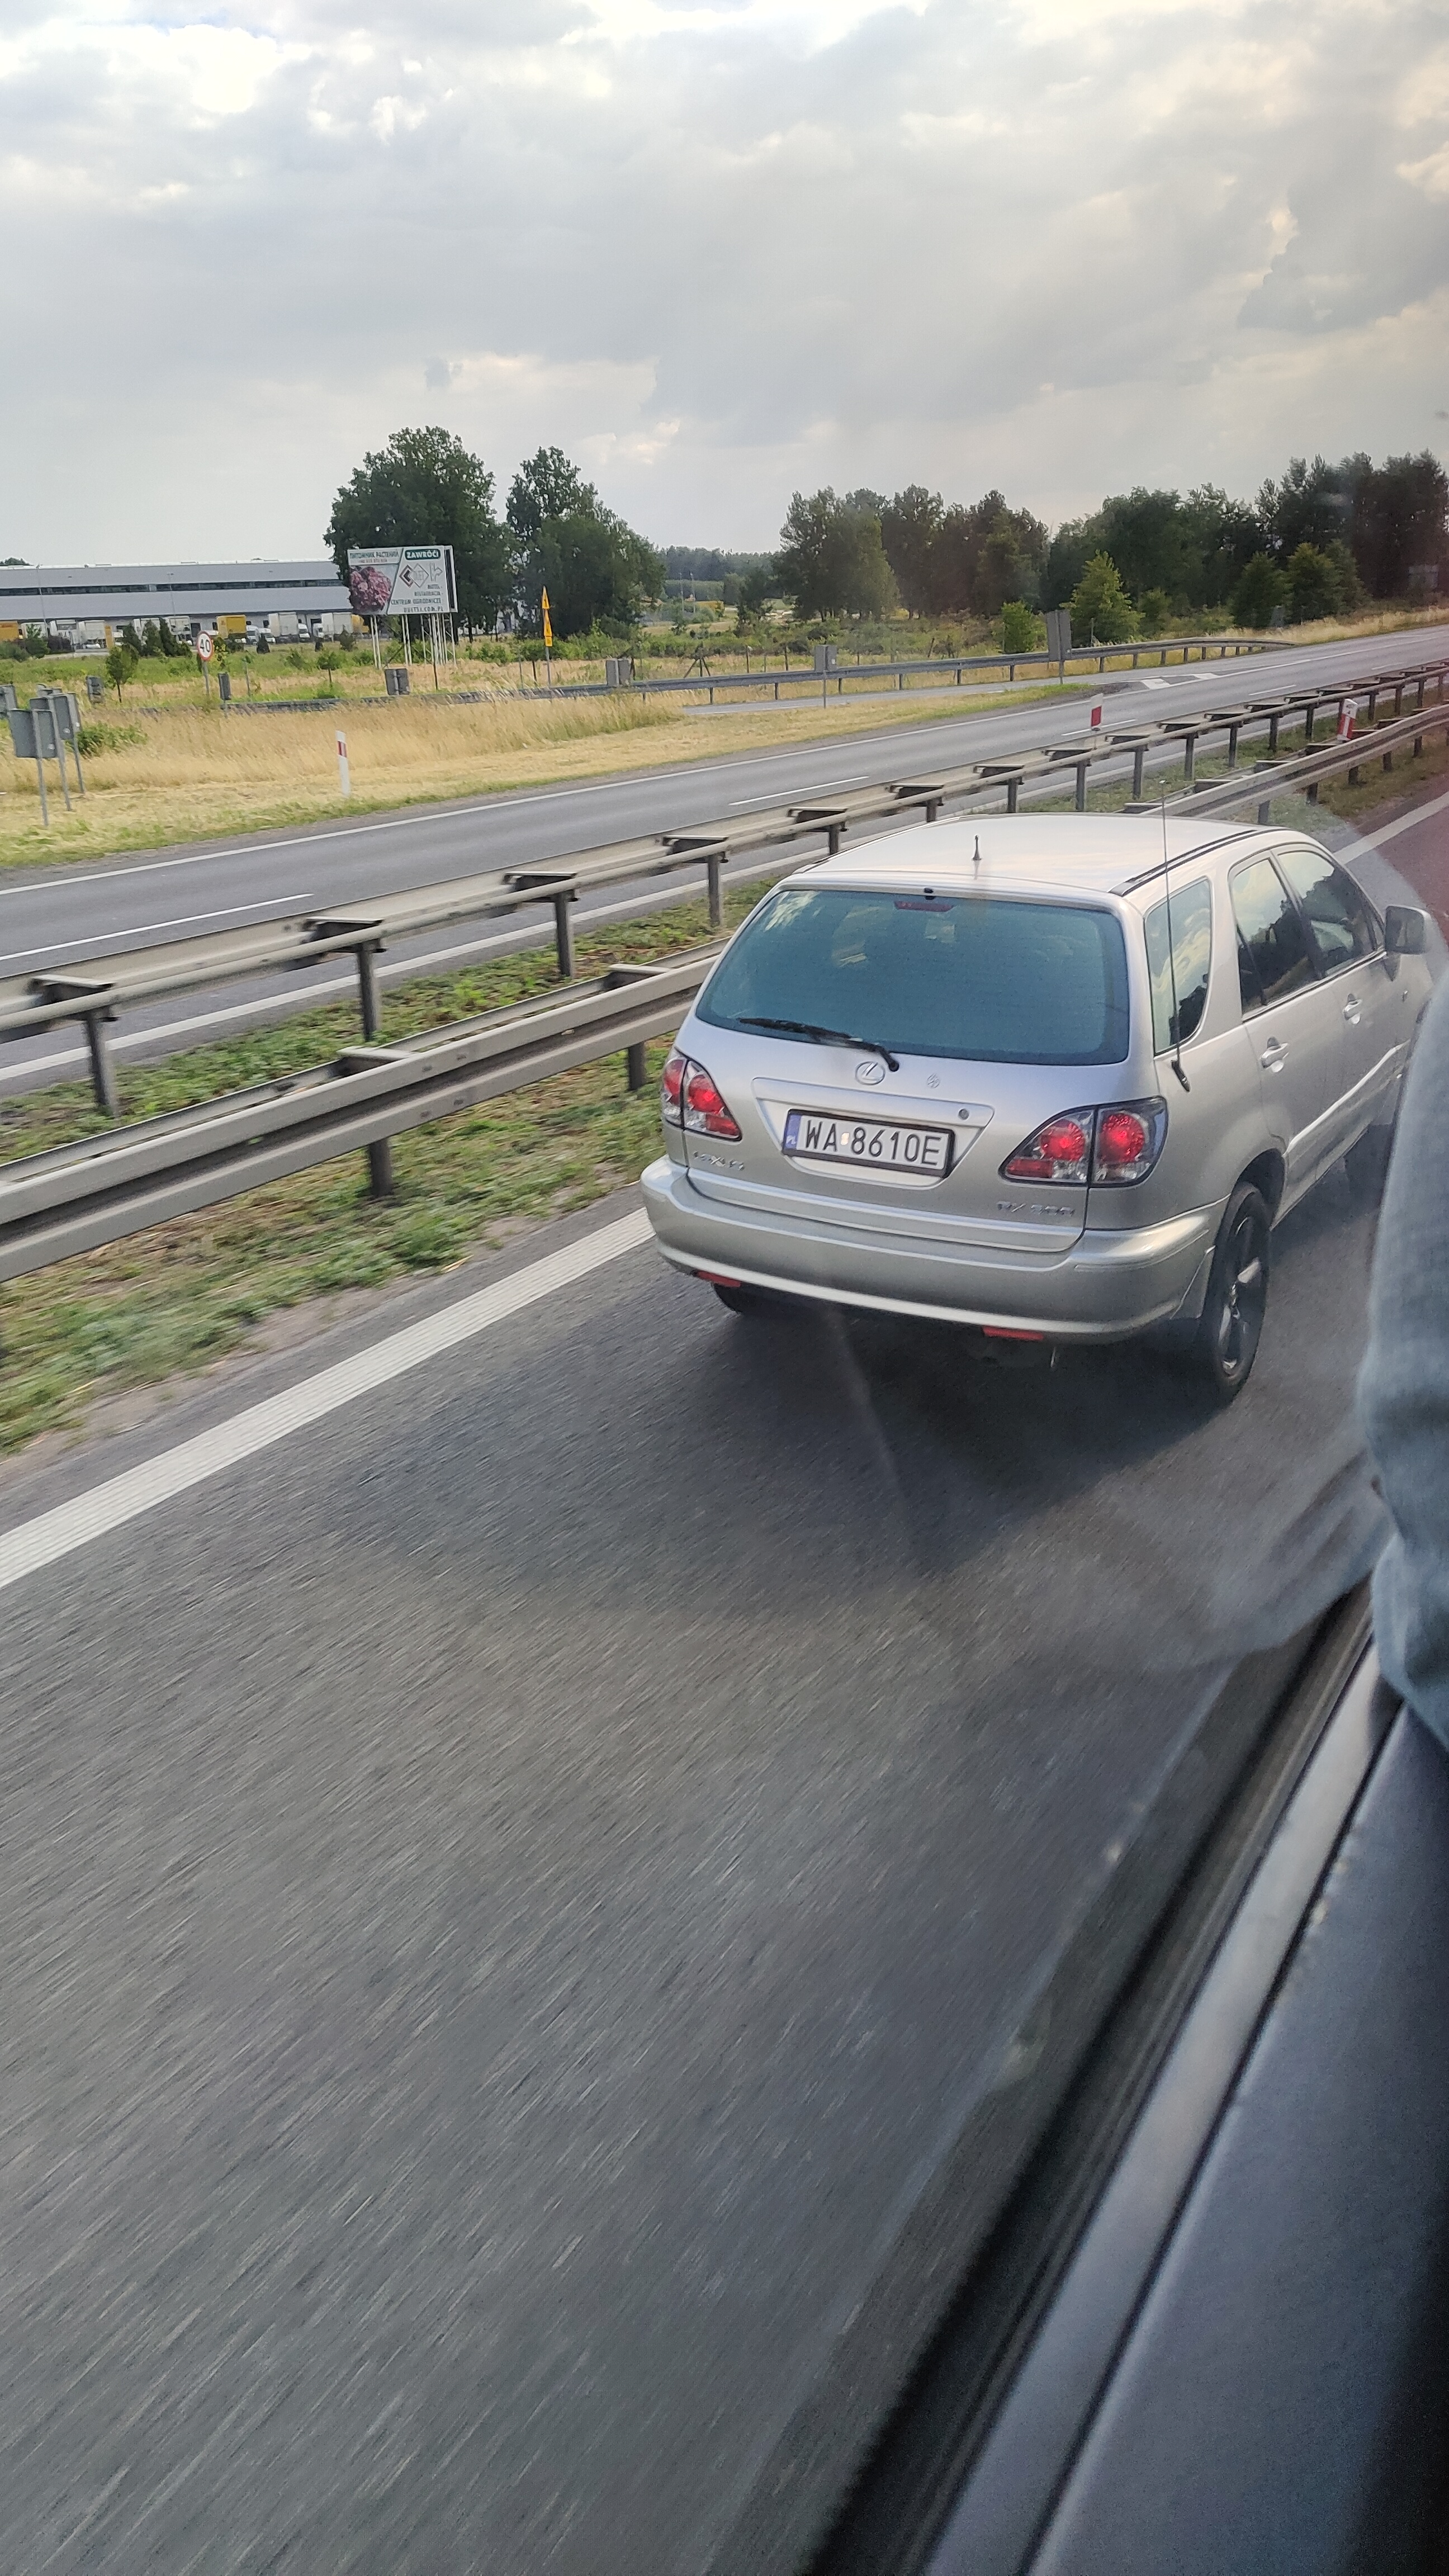number_plate: (780, 1111, 953, 1179)
